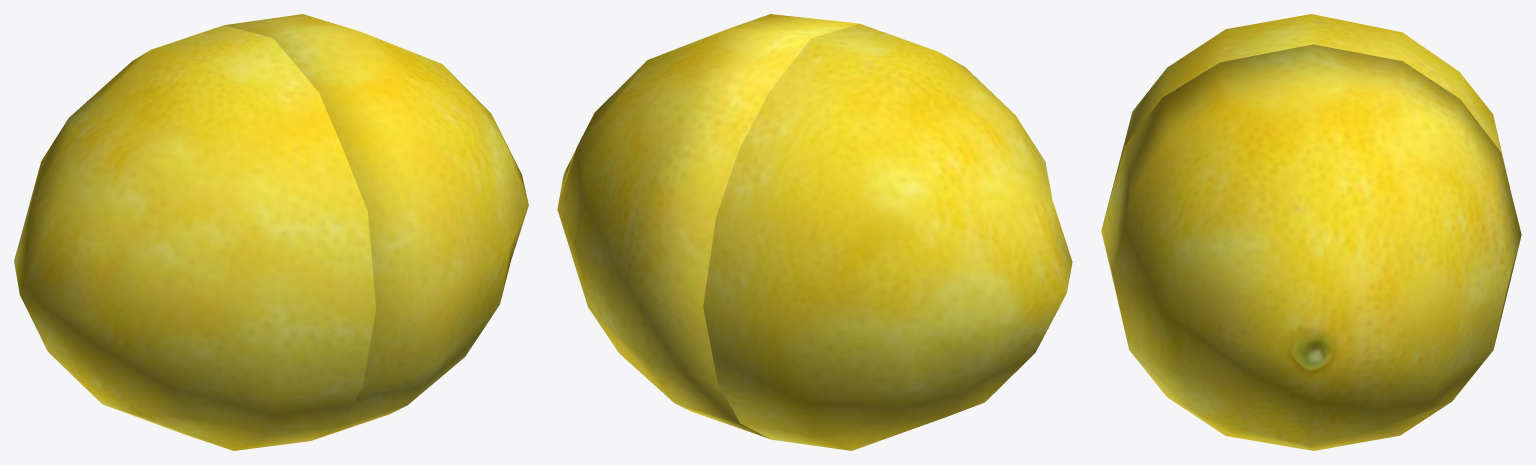
The model's file is lemon.fbx.
The picture shows the model from 3 angles, left to right: view 1: azimuth 30°, elevation 25°; view 2: azimuth 150°, elevation 25°; view 3: azimuth 270°, elevation 25°; orthographic projection.
Visible parts, largest first — view 1: lemon, lemon_part2; view 2: lemon, lemon_part2; view 3: lemon_part2, lemon.
Part boxes in pixels (x1=…): lemon: x1=14, y1=25, x2=376, y2=450; lemon_part2: x1=224, y1=14, x2=528, y2=440; lemon: x1=703, y1=23, x2=1072, y2=450; lemon_part2: x1=557, y1=14, x2=858, y2=439; lemon_part2: x1=1101, y1=44, x2=1521, y2=450; lemon: x1=1103, y1=14, x2=1509, y2=222.
Bounding box in the file's own units: 22.33 × 16.36 × 16.37.
